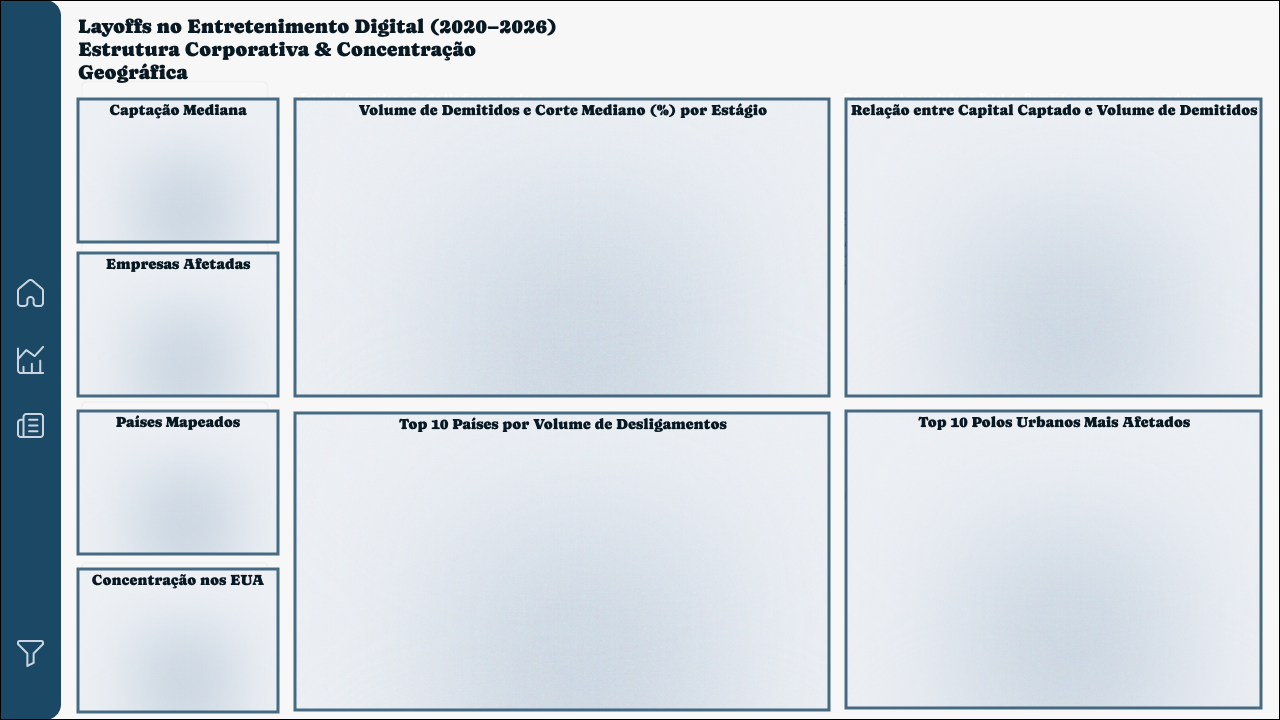

This screenshot's page, from the dashboard's own definition file:
{"tool":"powerbi","page":{"name":"Concentração Geográfica","canvas":[1920,1080],"ordinal":2},"visuals":[{"type":"group","id":"g1","title":"Padrão","box":[0,0,1920,1080],"z":0},{"type":"image","box":[0,0,1920,1080],"z":0,"group":"g1"},{"type":"cardVisual","fields":{"Data":["layoffs.Captacao_Mediana"]},"box":[120,144,288,216],"z":1000,"group":"g1"},{"type":"cardVisual","fields":{"Data":["layoffs.Empresas_Unicas"]},"box":[120,384,288,216],"z":2000,"group":"g1"},{"type":"cardVisual","fields":{"Data":["layoffs.Paises_Mapeados"]},"box":[120,624,288,192],"z":3000,"group":"g1"},{"type":"cardVisual","fields":{"Data":["layoffs.Concentracao_EUA_Pct"]},"box":[120,864,288,192],"z":4000,"group":"g1"},{"type":"actionButton","title":"Painel Filtros","box":[7,945,72,72],"z":4000},{"type":"lineStackedColumnComboChart","fields":{"Category":["layoffs.stage"],"Y":["Sum(layoffs.total_laid_off)"],"Y2":["layoffs.Corte_Mediano"]},"box":[456,192,768,384],"z":5000,"group":"g1"},{"type":"actionButton","title":"Painel Navegação","box":[7,505,72,72],"z":5000},{"type":"scatterChart","fields":{"Category":["layoffs.company"],"Series":["layoffs.industry"],"X":["Sum(layoffs.funds_raised)"],"Y":["Sum(layoffs.total_laid_off)"]},"box":[1272,192,624,384],"z":6000,"group":"g1"},{"type":"pageNavigator","title":"Sobre o Case","box":[12,608,60,60],"z":6000},{"type":"pageNavigator","title":"Home","box":[22,418,60,60],"z":7000},{"type":"clusteredBarChart","fields":{"Category":["layoffs.country"],"Y":["Sum(layoffs.total_laid_off)"]},"box":[456,648,768,408],"z":7000,"group":"g1"},{"type":"clusteredBarChart","fields":{"Category":["layoffs.location"],"Y":["Sum(layoffs.total_laid_off)"]},"box":[1296,648,576,408],"z":8000,"group":"g1"}]}

Visuals, with their boxes on the page's 1920x1080 design canvas (x1, y1, x2, y2). These are canvas units, not pixel positions in the 1280x720 screenshot, which may show the page scaled, cropped or inside an application window:
"Padrão" group: bbox=[0, 0, 1920, 1080]
image: bbox=[0, 0, 1920, 1080]
cardVisual - layoffs.Captacao_Mediana: bbox=[120, 144, 408, 360]
cardVisual - layoffs.Empresas_Unicas: bbox=[120, 384, 408, 600]
cardVisual - layoffs.Paises_Mapeados: bbox=[120, 624, 408, 816]
cardVisual - layoffs.Concentracao_EUA_Pct: bbox=[120, 864, 408, 1056]
"Painel Filtros" actionButton: bbox=[7, 945, 79, 1017]
lineStackedColumnComboChart - layoffs.stage x Sum(layoffs.total_laid_off): bbox=[456, 192, 1224, 576]
"Painel Navegação" actionButton: bbox=[7, 505, 79, 577]
scatterChart - layoffs.company x layoffs.industry: bbox=[1272, 192, 1896, 576]
"Sobre o Case" pageNavigator: bbox=[12, 608, 72, 668]
"Home" pageNavigator: bbox=[22, 418, 82, 478]
clusteredBarChart - layoffs.country x Sum(layoffs.total_laid_off): bbox=[456, 648, 1224, 1056]
clusteredBarChart - layoffs.location x Sum(layoffs.total_laid_off): bbox=[1296, 648, 1872, 1056]
